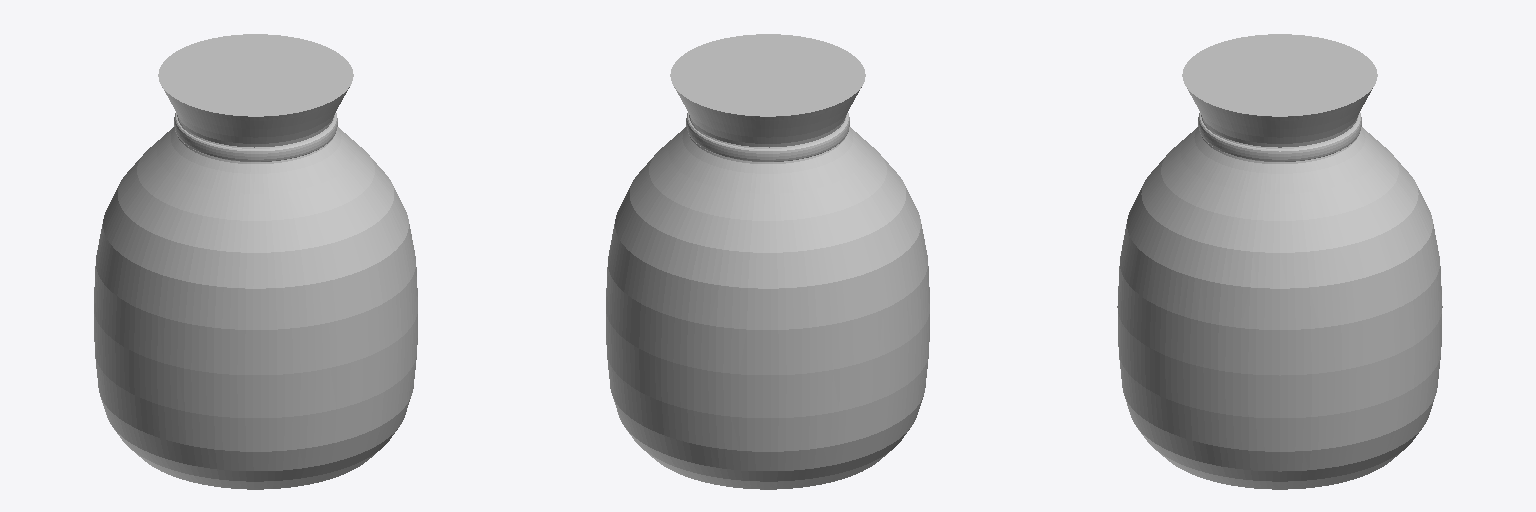
Rendered from pot.obj.
The picture shows the model from 3 angles: view 1: azimuth 30°, elevation 25°; view 2: azimuth 150°, elevation 25°; view 3: azimuth 270°, elevation 25°; orthographic projection.
Parts seen in each view (by area): view 1: Cylinder; view 2: Cylinder; view 3: Cylinder.
Boxes of the visible parts, x1,y1,x2,y2 form: Cylinder: [94, 34, 417, 489]; Cylinder: [606, 34, 929, 489]; Cylinder: [1117, 34, 1442, 489].
Bounding box in the file's own units: 2.99 × 3.66 × 2.99.